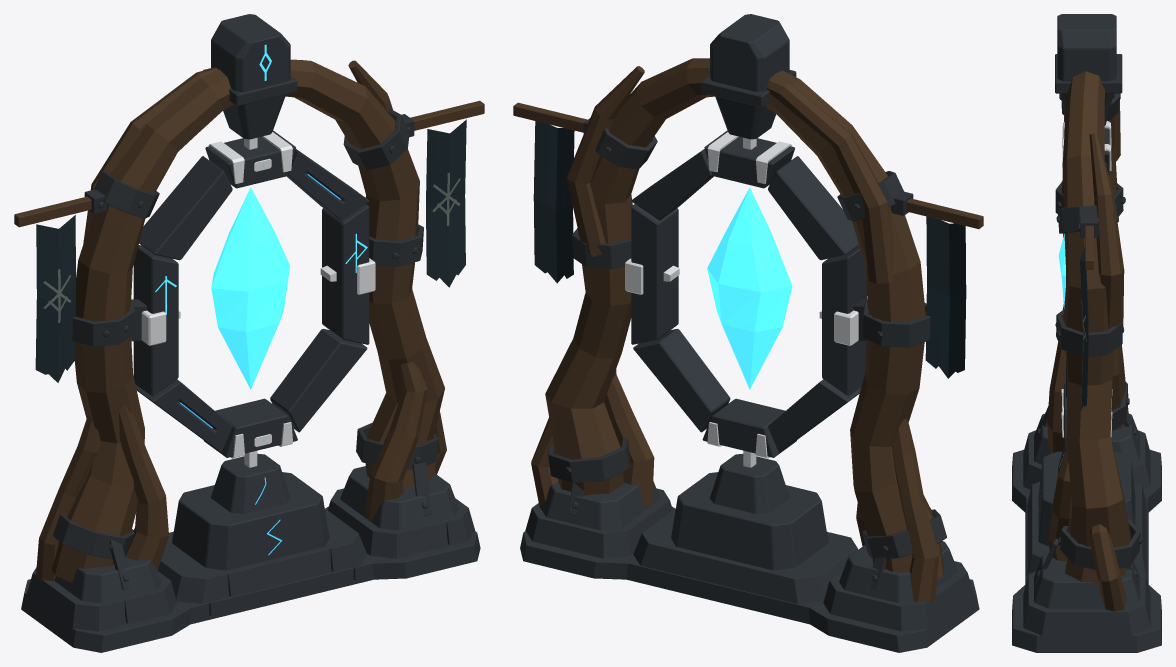
File: RunicGateway.fbx
3 views of the same model, side by side, from view 1: azimuth 30°, elevation 25°; view 2: azimuth 150°, elevation 25°; view 3: azimuth 270°, elevation 25° (orthographic). The views are drawn at different scales.
Visible parts, largest first — view 1: RG_Stone, RG_Timber, RG_Iron, RG_Banners, RG_Core, RG_Silver, RG_BannerSymbols; view 2: RG_Stone, RG_Timber, RG_Banners, RG_Iron, RG_Core, RG_Silver; view 3: RG_Timber, RG_Stone, RG_Iron, RG_Banners, RG_Silver, RG_Core.
Part boxes in pixels (x1,y1,x2,y2): RG_Stone: (21, 14, 480, 652); RG_Timber: (14, 59, 484, 582); RG_Iron: (53, 68, 438, 589); RG_Banners: (35, 119, 466, 382); RG_Core: (211, 187, 290, 389); RG_Silver: (131, 132, 375, 467); RG_BannerSymbols: (43, 172, 460, 322); RG_Stone: (520, 14, 979, 652); RG_Timber: (513, 58, 983, 603); RG_Banners: (533, 121, 966, 378); RG_Iron: (548, 70, 946, 589); RG_Core: (707, 187, 792, 389); RG_Silver: (625, 132, 867, 467); RG_Timber: (1047, 71, 1130, 611); RG_Stone: (1012, 14, 1161, 652); RG_Iron: (1035, 54, 1142, 584); RG_Banners: (1080, 247, 1088, 409); RG_Silver: (1061, 121, 1112, 437); RG_Core: (1058, 234, 1065, 308).
Size of the model in its own units: 3.1 by 3.5 by 0.8897.
